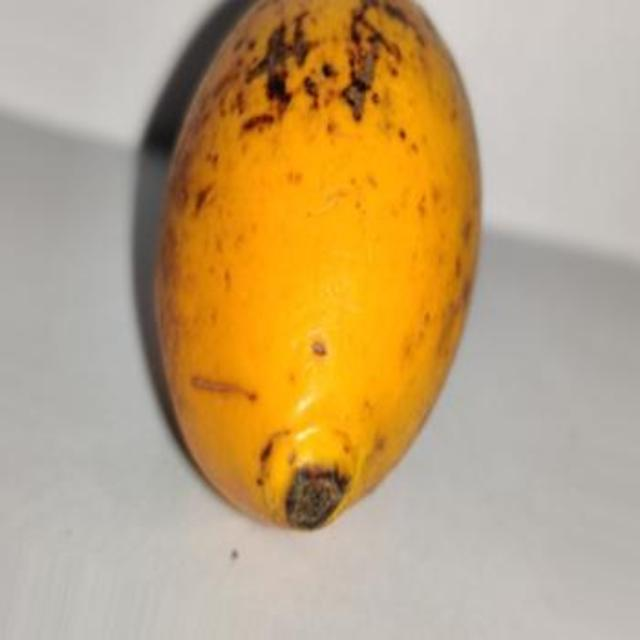good: (148, 0, 485, 534)
